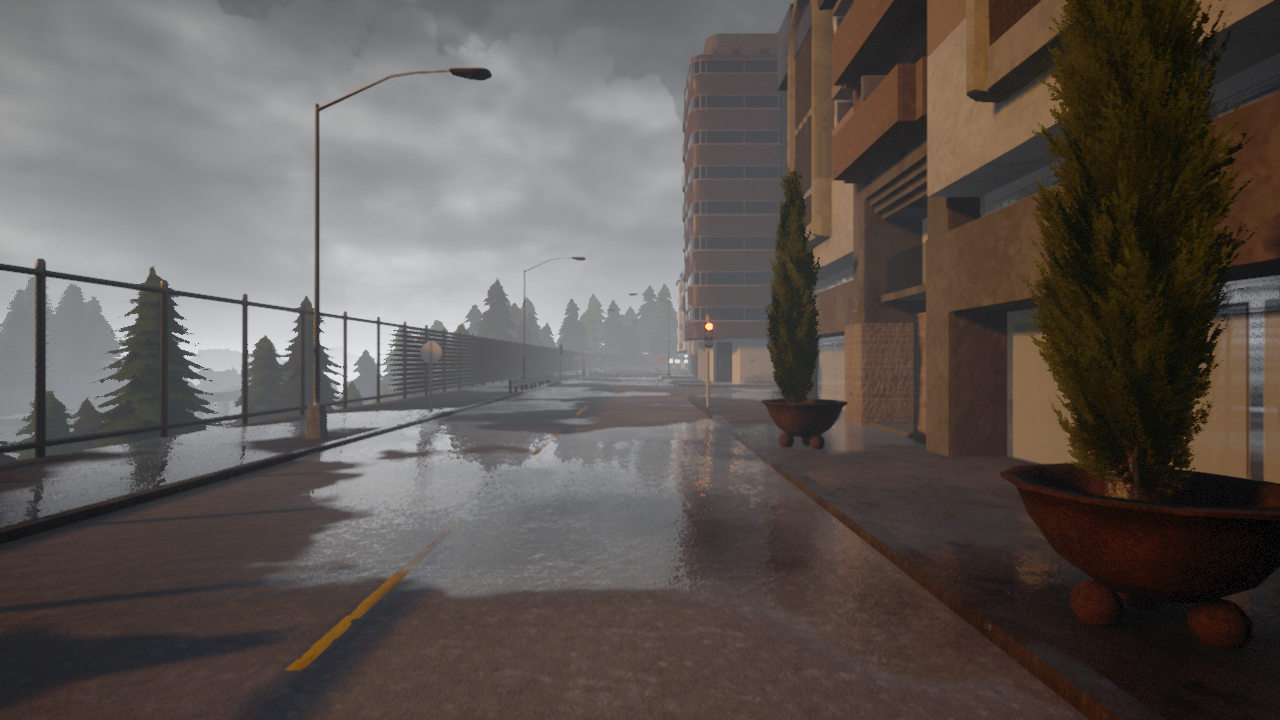red: (703, 321, 713, 348)
